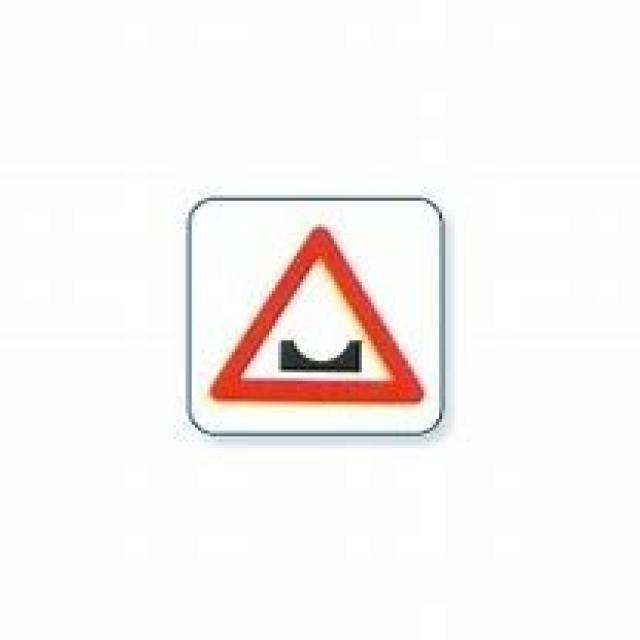dangerous dip: (209, 218, 427, 411)
